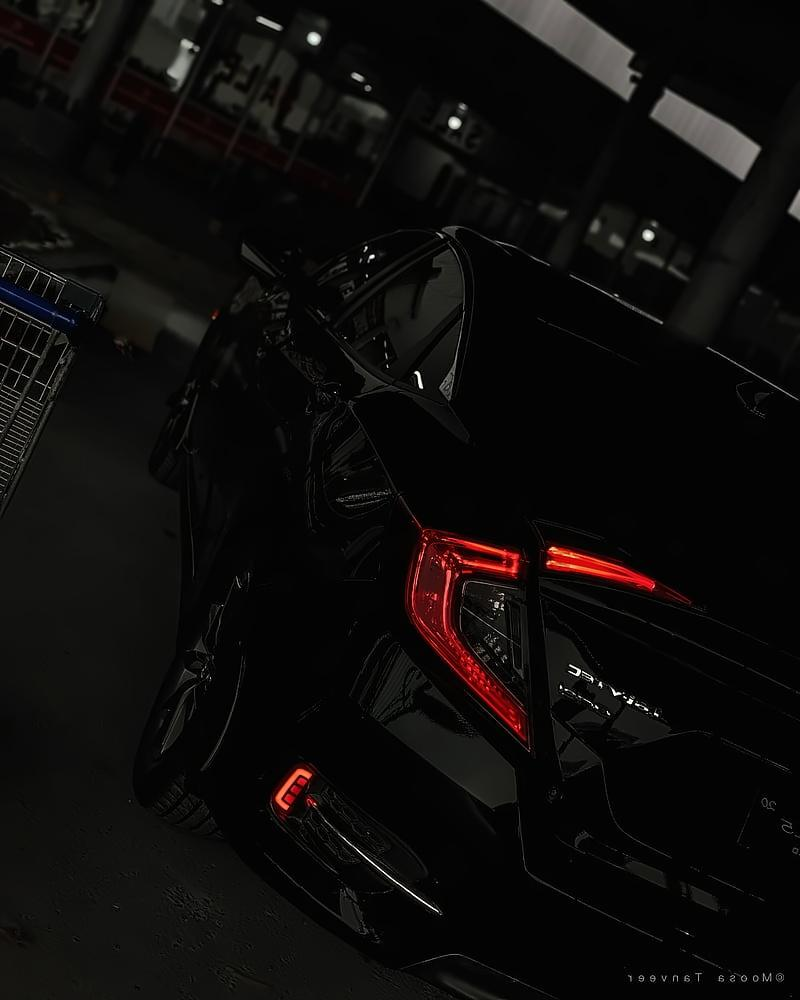Car boot: (510, 494, 800, 867)
Passenger-s door - -R-L-: (166, 222, 469, 590)
Rear bumper: (224, 654, 800, 1000)
Rear light - -L-: (397, 525, 701, 756)
Side bumper - -L-: (149, 427, 258, 664)
Side mirror - -L-: (215, 215, 326, 295)
